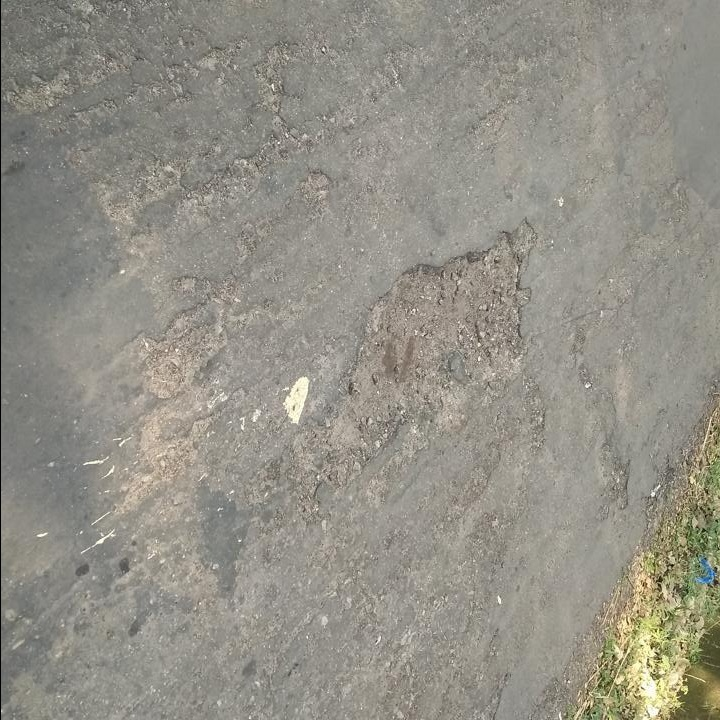pothole: (326, 220, 540, 470), (599, 450, 636, 513)
